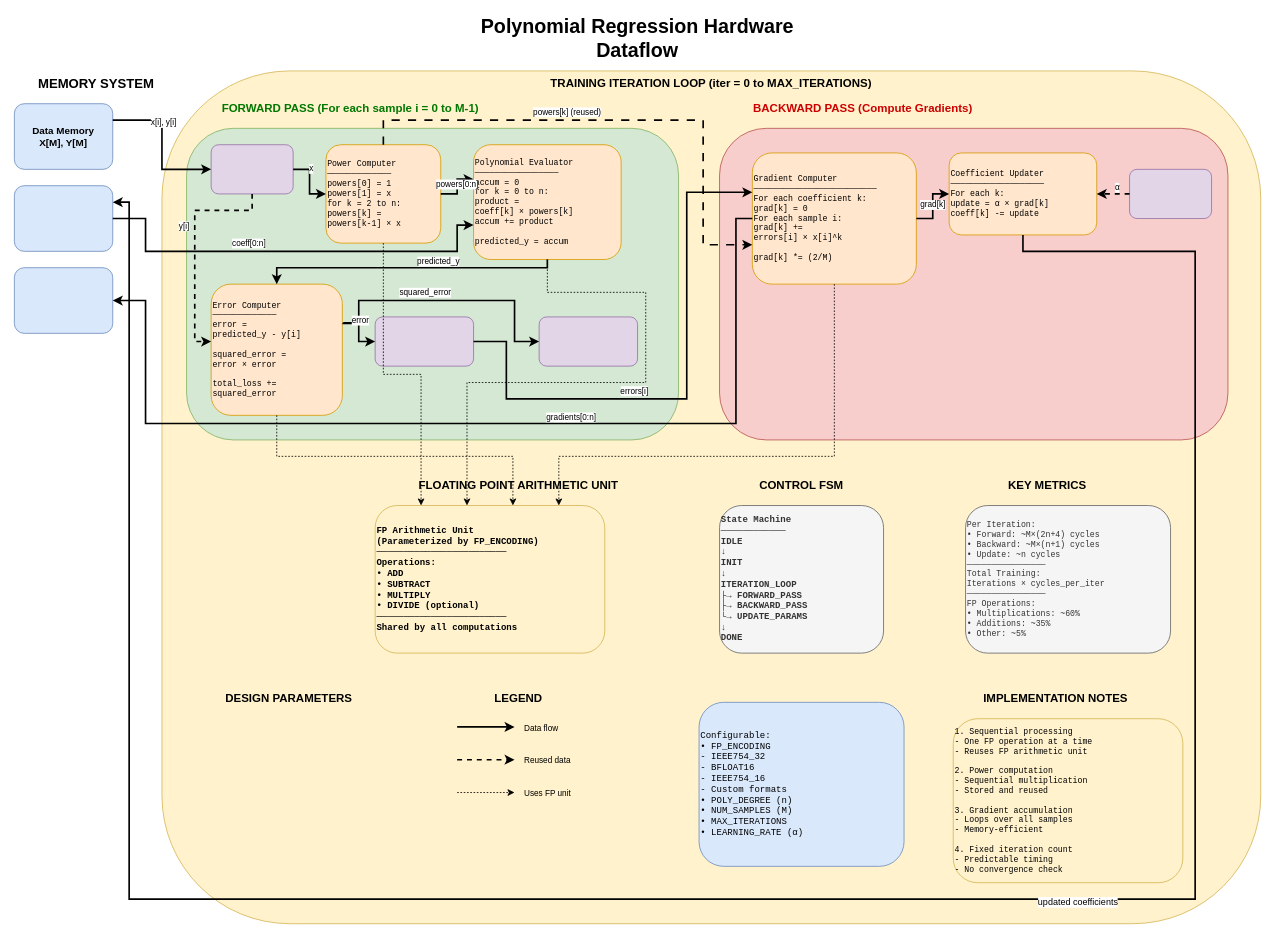
This 1275x938 diagram has some shape labels left out. Each missing label, with the centre of its shape:
Coefficient Memory a₀, a₁, ..., aₙ: (63,218)
Error Storage errors[i] = error: (424,341)
Gradient Memory grad[0:n]: (63,300)
Learning Rate α (parameter): (1170,194)
Loss Accumulator total_loss: (588,341)
Read Sample x[i], y[i]: (251,169)
